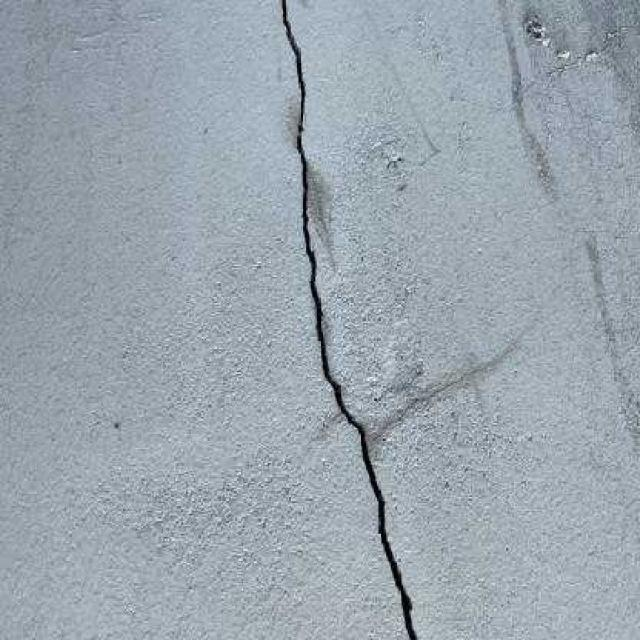D00: (281, 0, 418, 640)
